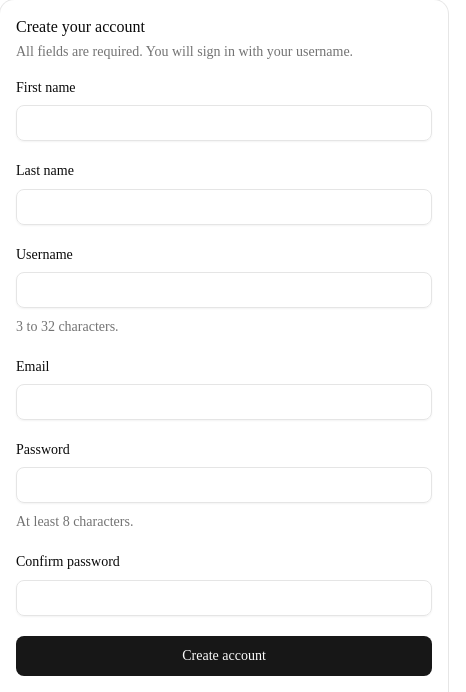
Scenario: RegisterForm › shows the duplicate username message from the server
In the field labelled "First name": (224, 123) x1=16 y1=105 x2=432 y2=141, type "Ada"
In the field labelled "Last name": (224, 206) x1=16 y1=188 x2=432 y2=224, type "Lovelace"
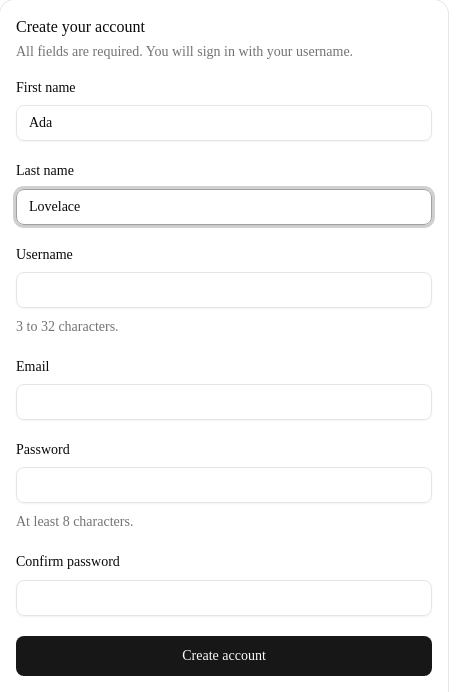
In the field labelled "Username": (224, 290) x1=16 y1=272 x2=432 y2=308, type "ada"
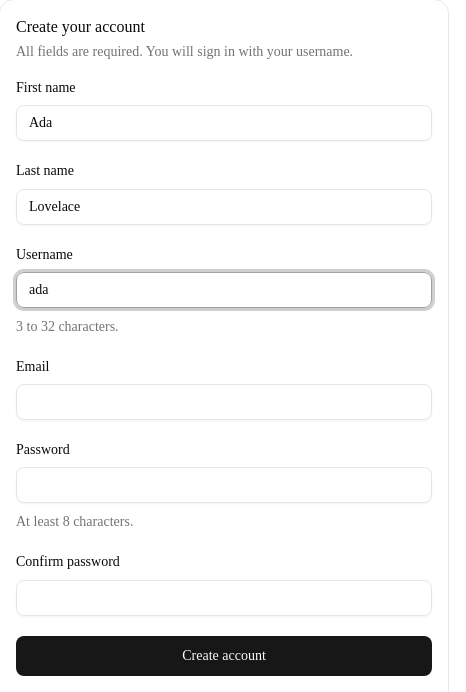
In the field labelled "Email": (224, 402) x1=16 y1=384 x2=432 y2=420, type "ada@example.com"
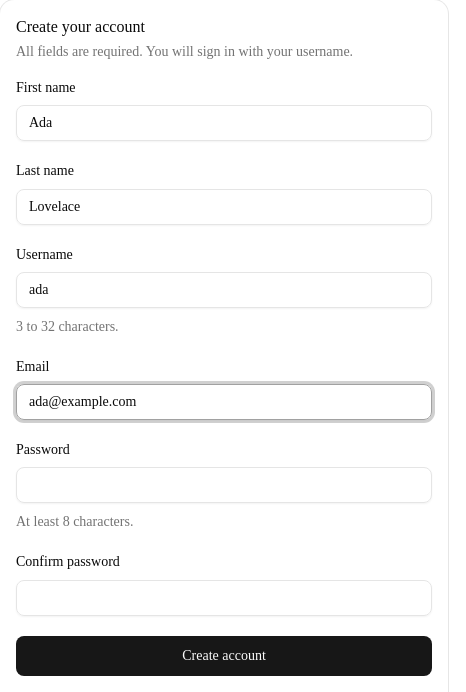
In the password field labelled "Password": (224, 485) x1=16 y1=467 x2=432 y2=503, type "correct horse battery"
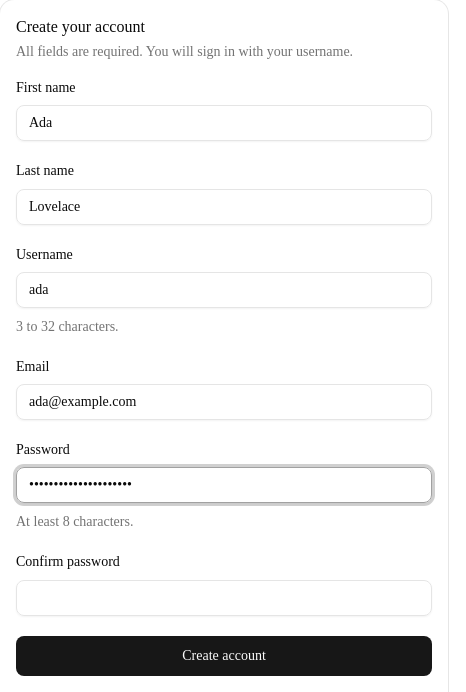
In the password field labelled "Confirm password": (224, 598) x1=16 y1=580 x2=432 y2=616, type "correct horse battery"
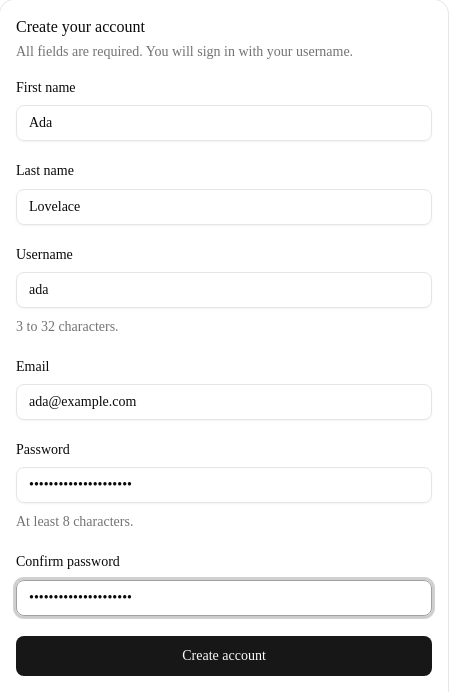
Click the button "Create account": (224, 656) x1=16 y1=636 x2=432 y2=676
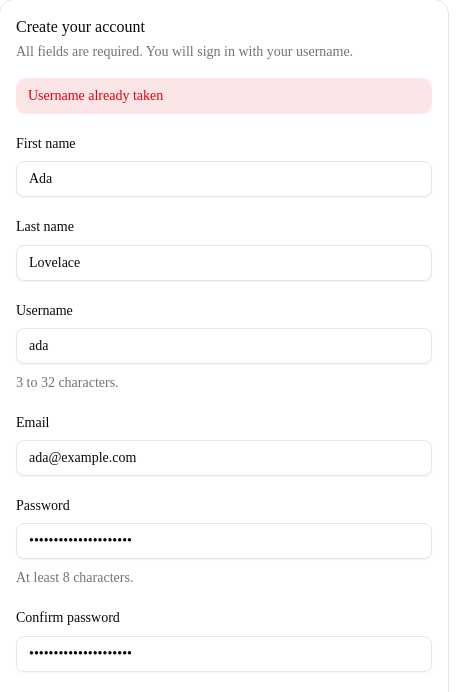
Expected: the message reads "Username already taken", x1=28 y1=88 x2=163 y2=103
